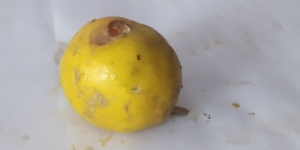BAD: (63, 16, 180, 129)
